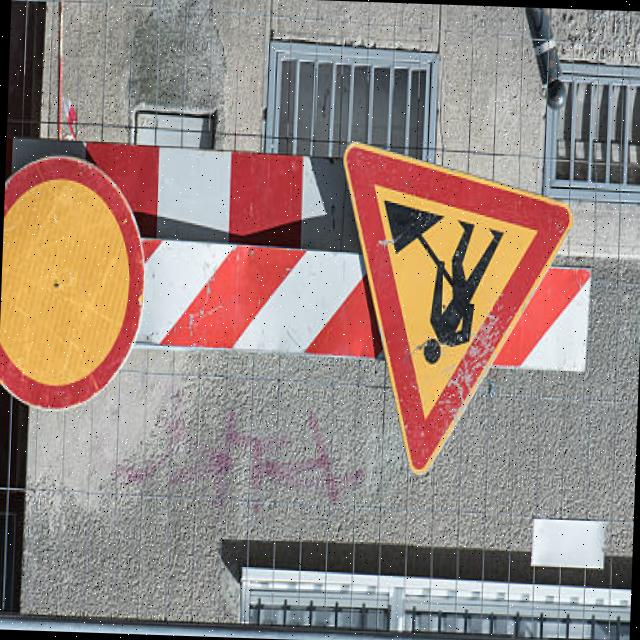road_work: (324, 142, 573, 486)
